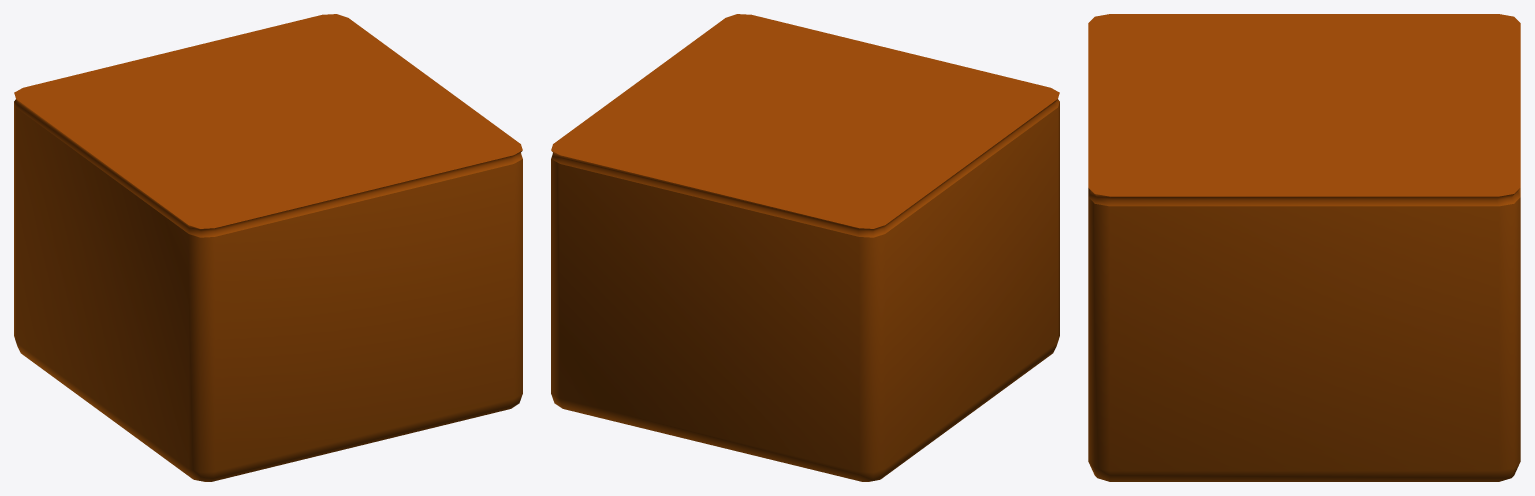
File: 3D_Tile_Socket_Ground_03.fbx
3 views of the same model, side by side, from view 1: azimuth 30°, elevation 25°; view 2: azimuth 150°, elevation 25°; view 3: azimuth 270°, elevation 25° (orthographic). The views are drawn at different scales.
Visible parts, largest first — view 1: 3D_Tile_Socket_Ground_03; view 2: 3D_Tile_Socket_Ground_03; view 3: 3D_Tile_Socket_Ground_03.
Boxes of the visible parts, x1,y1,x2,y2 form: 3D_Tile_Socket_Ground_03: [14, 14, 522, 481]; 3D_Tile_Socket_Ground_03: [551, 14, 1059, 481]; 3D_Tile_Socket_Ground_03: [1088, 14, 1520, 481].
Bounding box in the file's own units: 200 × 150 × 200.
